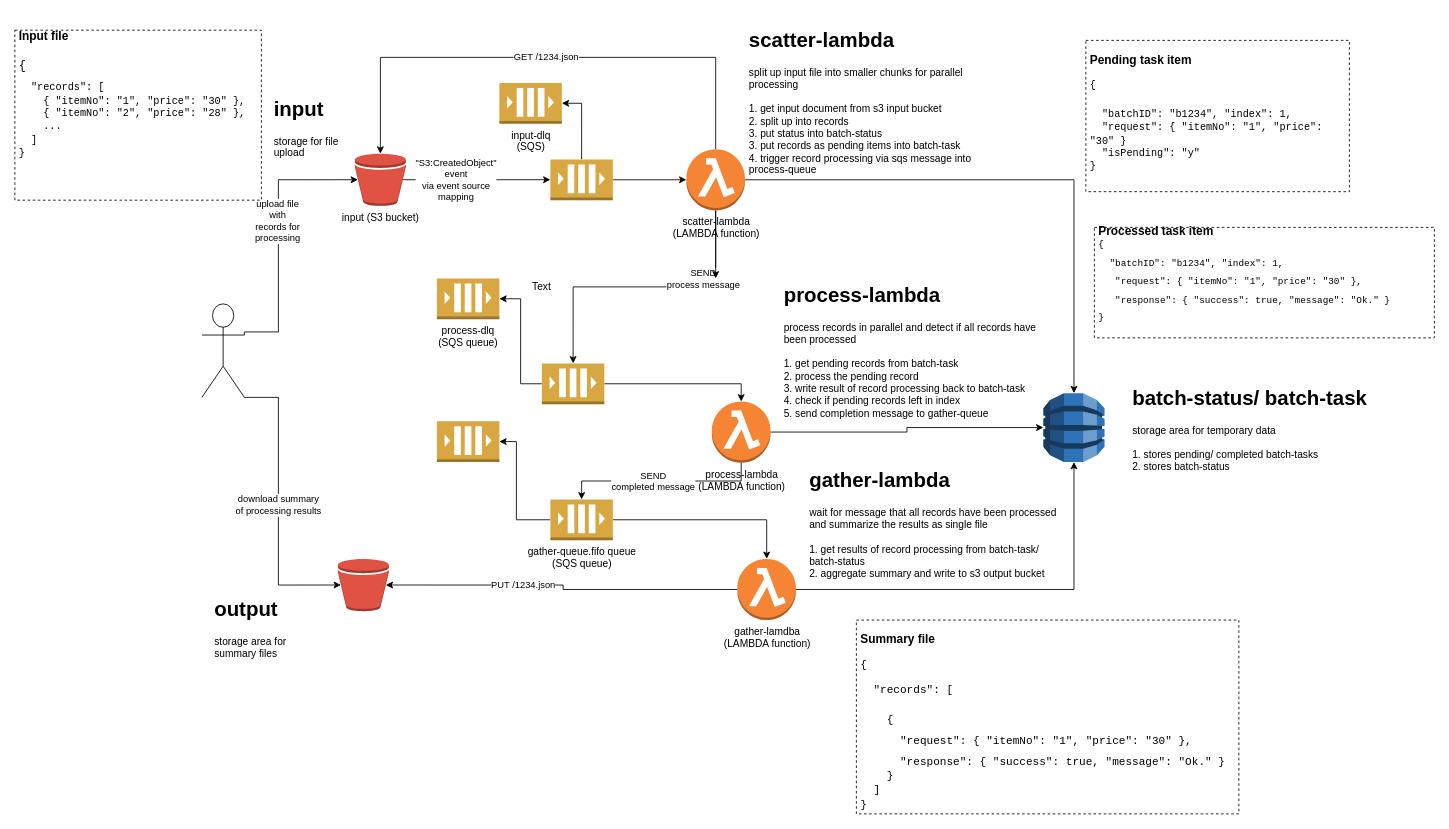
Image size: 1449x829. Some labels were removed from this diagram. The centre of each missing label's shape, as x and y in pixels:
"gather-dlq.fifo (SQS queue)" belongs at point 467,441.
"input-queue (SQS queue)" belongs at point 581,179.
"output (S3 bucket)" belongs at point 363,584.
"Partner" belongs at point 222,350.
"process-queue (SQS queue)" belongs at point 572,383.
